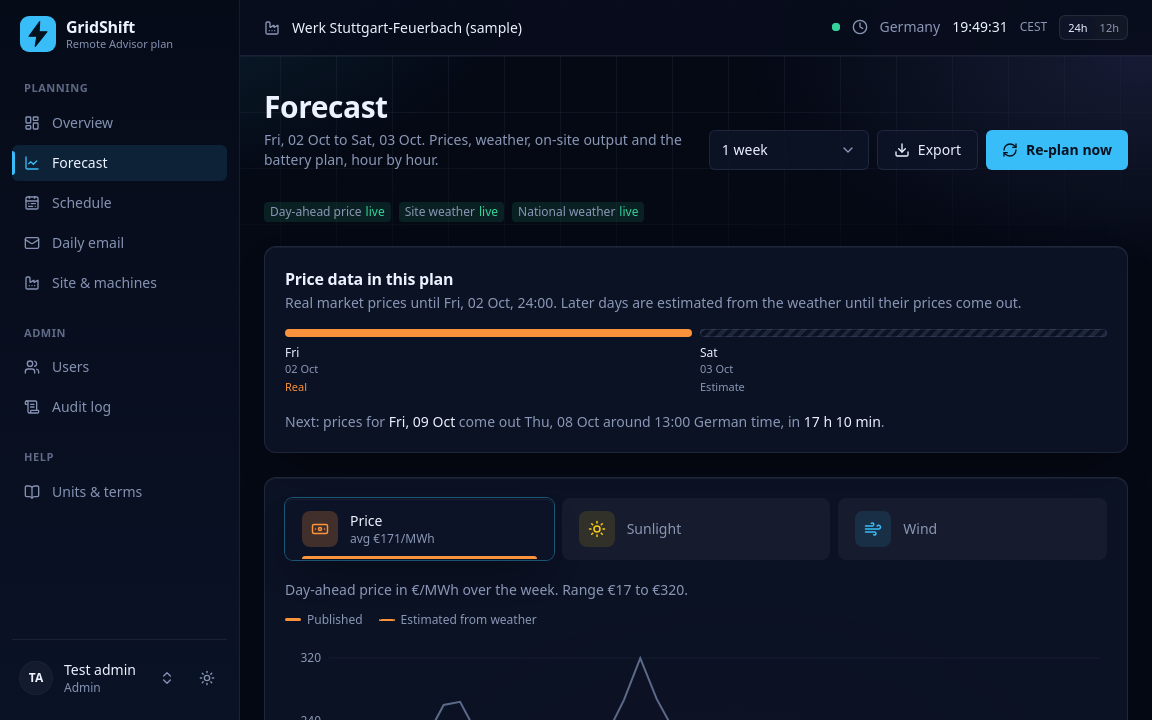
Test: App › asks for a re-plan when a stored run has no weather
Click the tab "Sunlight" at [597, 528], box top-left (562, 498), bottom-right (830, 560)
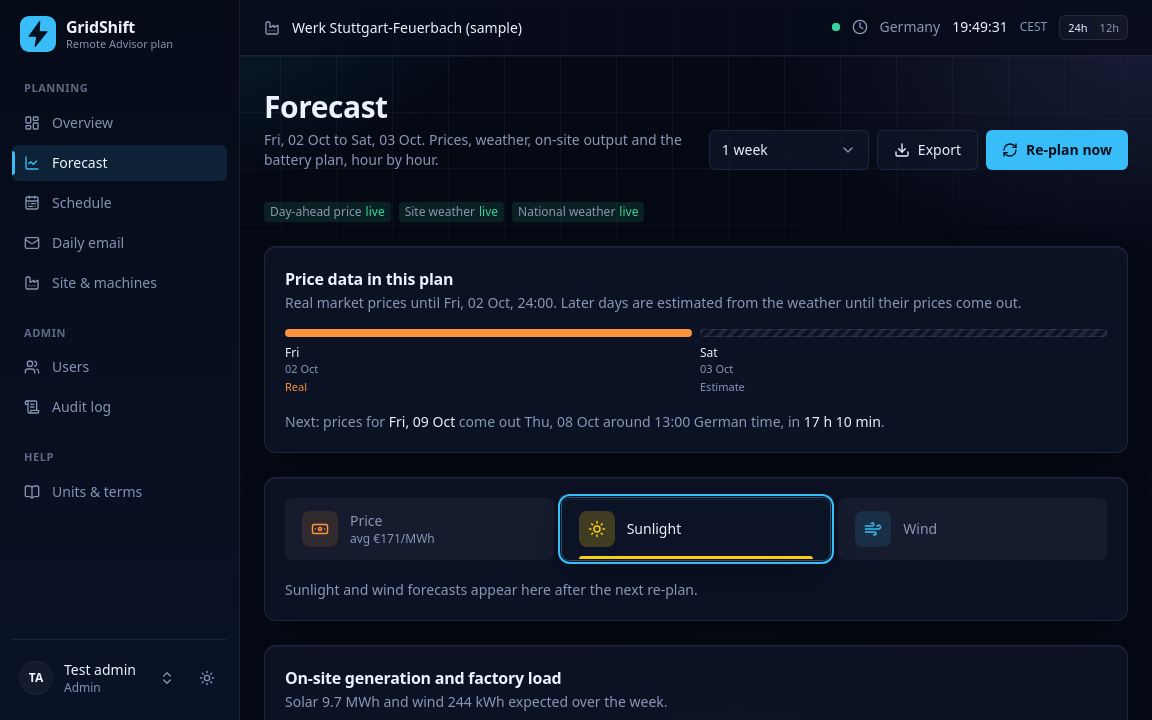
Result: the text "appear here after the next re-plan" is shown at top-left (285, 580), bottom-right (698, 598)
